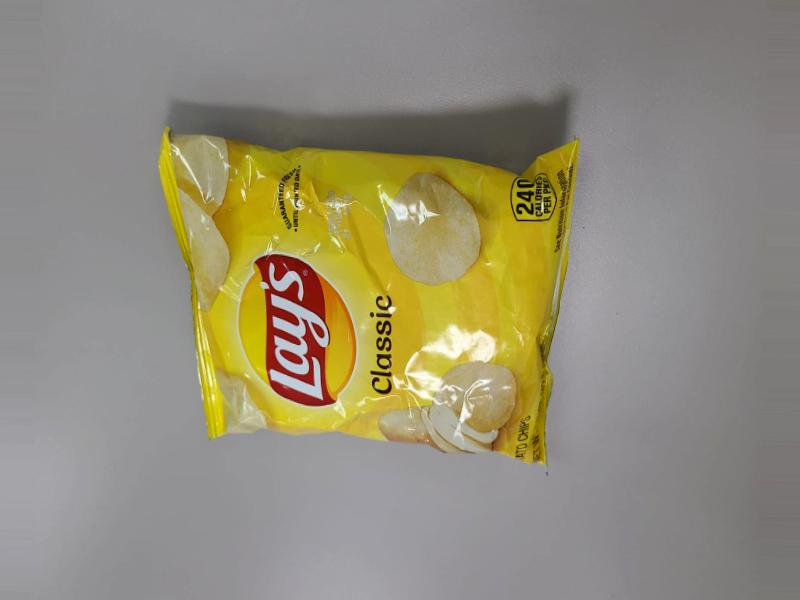lays: (160, 146, 549, 395)
